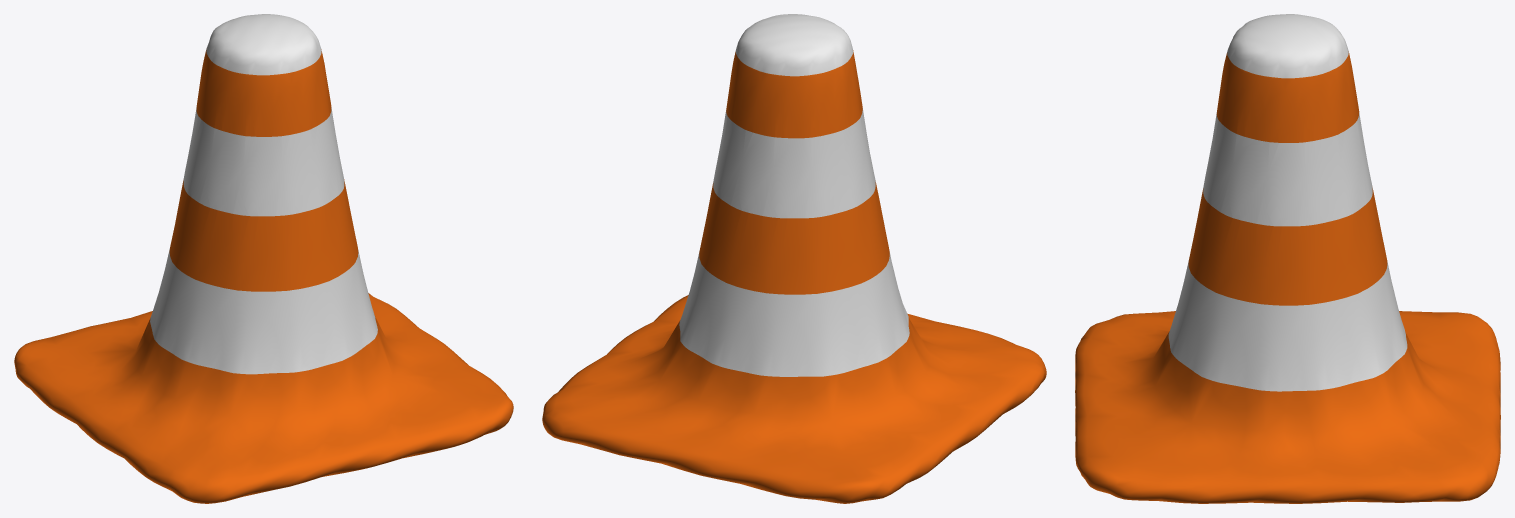
Rendered from VLCHat.fbx.
3 views of the same model, side by side, from view 1: azimuth 30°, elevation 25°; view 2: azimuth 150°, elevation 25°; view 3: azimuth 270°, elevation 25° (orthographic). The views are drawn at different scales.
Parts seen in each view (by area): view 1: m_TrafficCone01; view 2: m_TrafficCone01; view 3: m_TrafficCone01.
Part boxes in pixels (x1,y1,x2,y2): m_TrafficCone01: [14, 14, 513, 503]; m_TrafficCone01: [542, 14, 1046, 503]; m_TrafficCone01: [1075, 14, 1500, 503].
Size of the model in its own units: 656 by 671 by 656.
